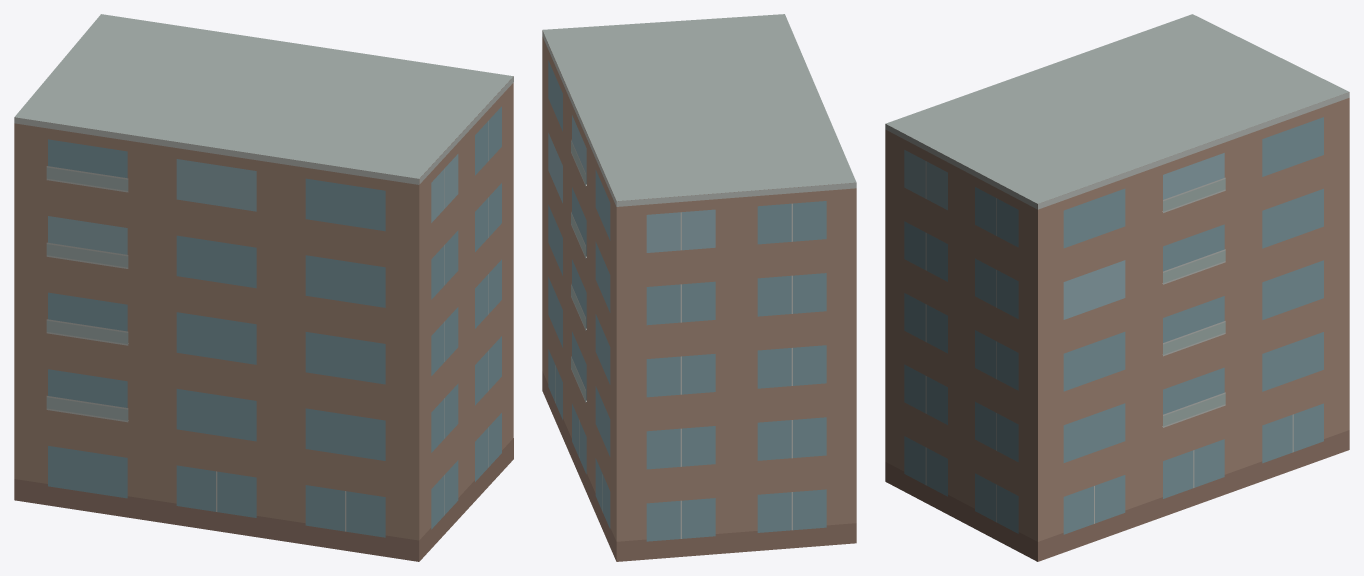
The model's file is survey-upis-32843184.glb.
The picture shows the model from 3 angles, left to right: view 1: azimuth 30°, elevation 25°; view 2: azimuth 150°, elevation 25°; view 3: azimuth 270°, elevation 25°; orthographic projection. The views are drawn at different scales.
Visible parts, largest first — view 1: survey-upis-32843184.tmp; view 2: survey-upis-32843184.tmp; view 3: survey-upis-32843184.tmp.
Boxes of the visible parts, x1,y1,x2,y2 form: survey-upis-32843184.tmp: [14, 14, 513, 561]; survey-upis-32843184.tmp: [542, 14, 856, 561]; survey-upis-32843184.tmp: [885, 14, 1349, 561].
Bounding box in the file's own units: 17.37 × 15.25 × 17.94.
